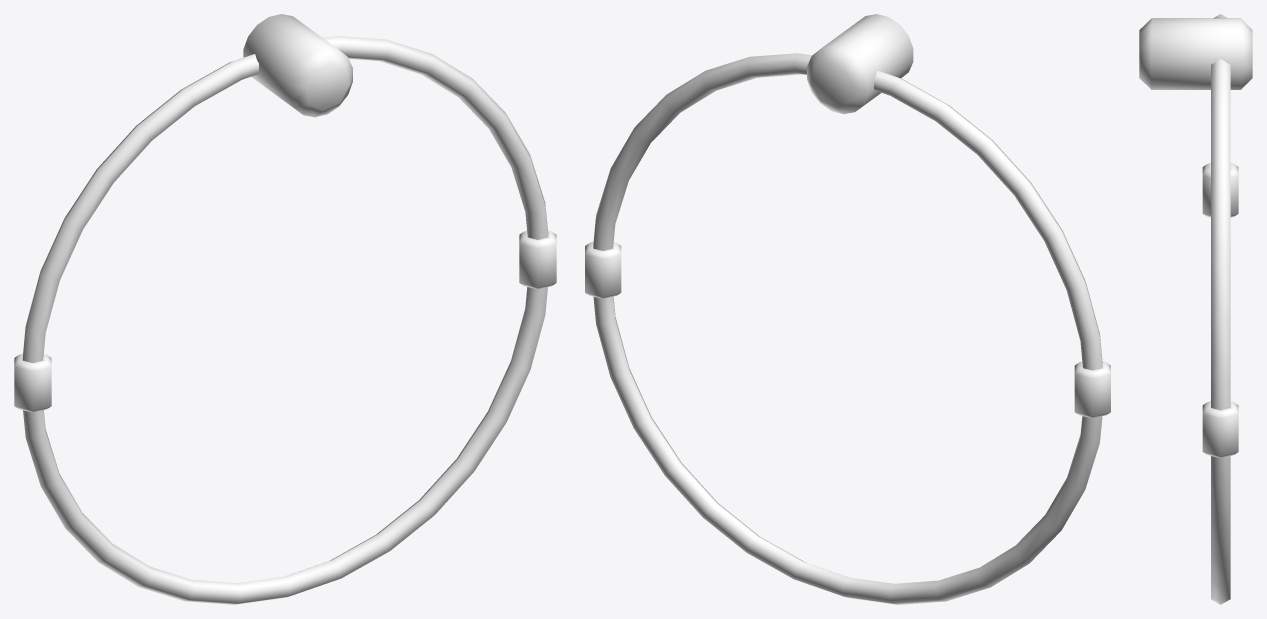
File: diff_5.1.fbx
3 views of the same model, side by side, from view 1: azimuth 30°, elevation 25°; view 2: azimuth 150°, elevation 25°; view 3: azimuth 270°, elevation 25° (orthographic). The views are drawn at different scales.
Parts seen in each view (by area): view 1: Circle.005; view 2: Circle.005; view 3: Circle.005.
Boxes of the visible parts, x1,y1,x2,y2 form: Circle.005: (14, 14, 556, 604); Circle.005: (585, 14, 1110, 604); Circle.005: (1139, 14, 1252, 604).
Size of the model in its own units: 730 by 739 by 137.
